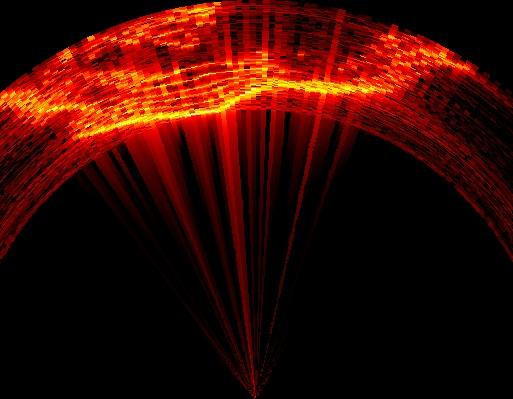shipwreck: (9, 4, 470, 138)
